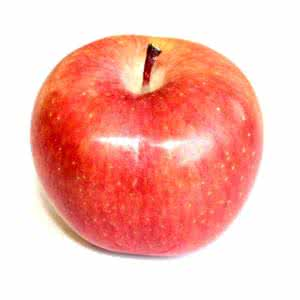apple: (37, 31, 264, 256)
